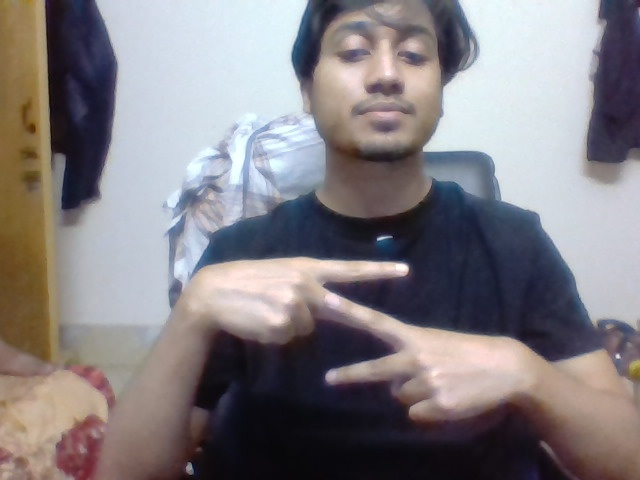Z: (315, 254, 416, 391)
